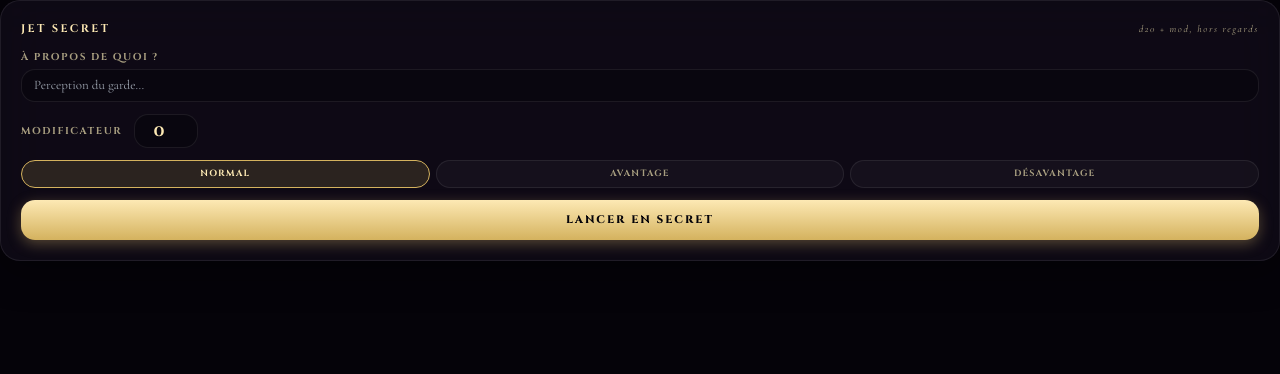
Test: <SecretRollButton> — journalisation › hors campagne, le jet reste purement local (aucune écriture)
Click the button "Lancer en secret". click: point(640, 220)
box: [21, 200, 1259, 240]
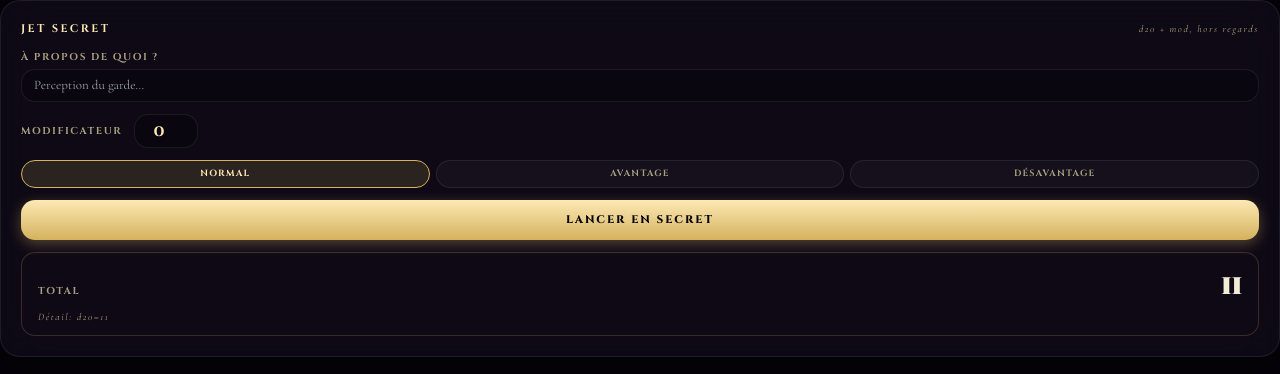
Result: the text "11" is shown at [1221, 265, 1242, 307]
